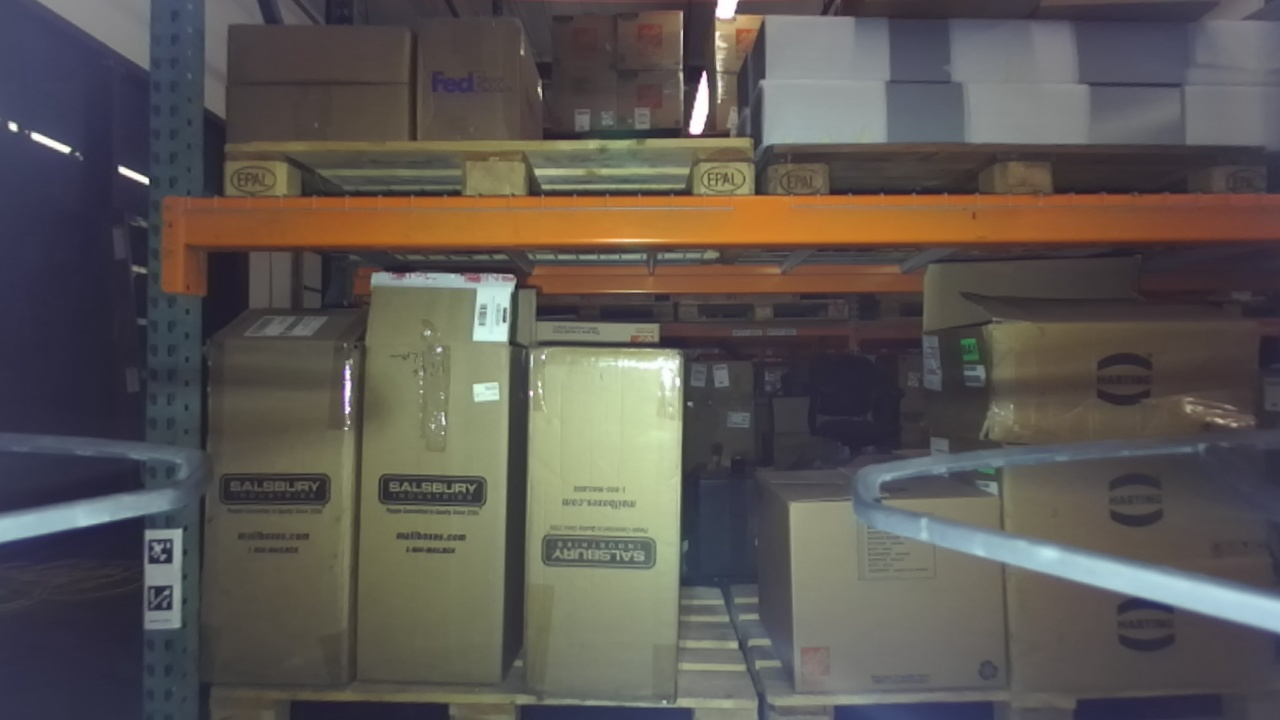box: (515, 330, 705, 708), (358, 263, 517, 708), (203, 308, 364, 712), (744, 461, 1025, 688), (908, 268, 1268, 425), (952, 442, 1280, 569), (1003, 566, 1280, 695), (401, 7, 530, 134), (217, 13, 425, 88), (215, 77, 421, 152)
